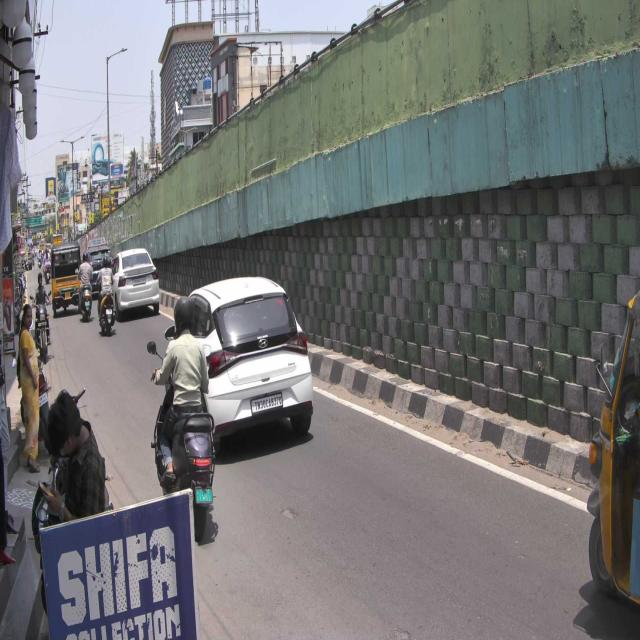single_rider: (146, 295, 219, 541)
